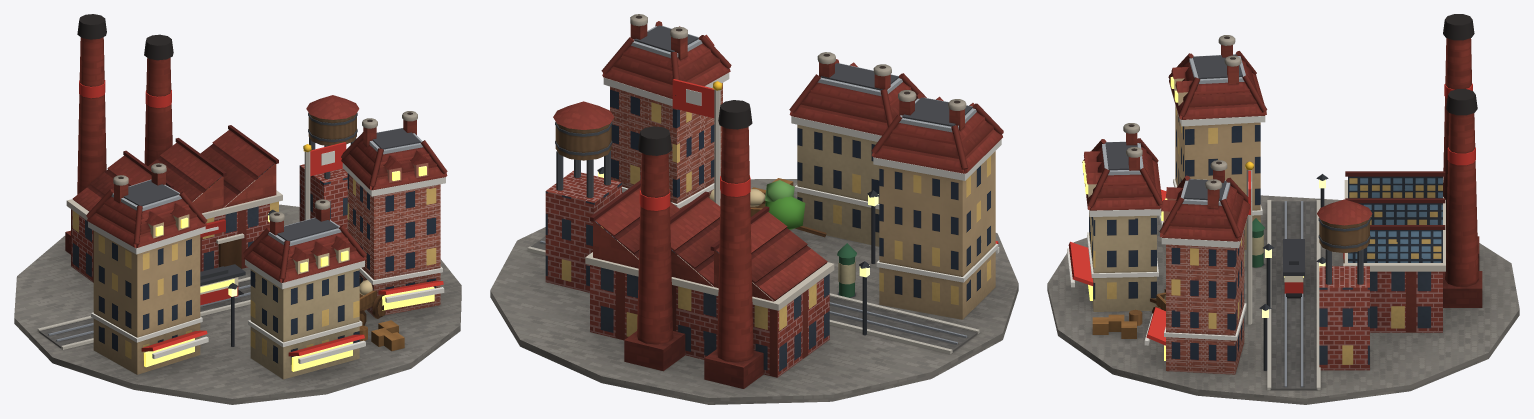
Rendered from city_dl5_red.glb.
3 renders of one model, left to right at view 1: azimuth 30°, elevation 25°; view 2: azimuth 150°, elevation 25°; view 3: azimuth 270°, elevation 25°, orthographic. The views are drawn at different scales.
Visible parts, largest first — view 1: city_dl5_red; view 2: city_dl5_red; view 3: city_dl5_red.
Part boxes in pixels (x1,y1,x2,y2): city_dl5_red: [14, 14, 461, 404]; city_dl5_red: [490, 14, 1018, 404]; city_dl5_red: [1047, 14, 1519, 404].
Bounding box in the file's own units: 1.52 × 0.875 × 1.49.
3 materials, 1 textured.
